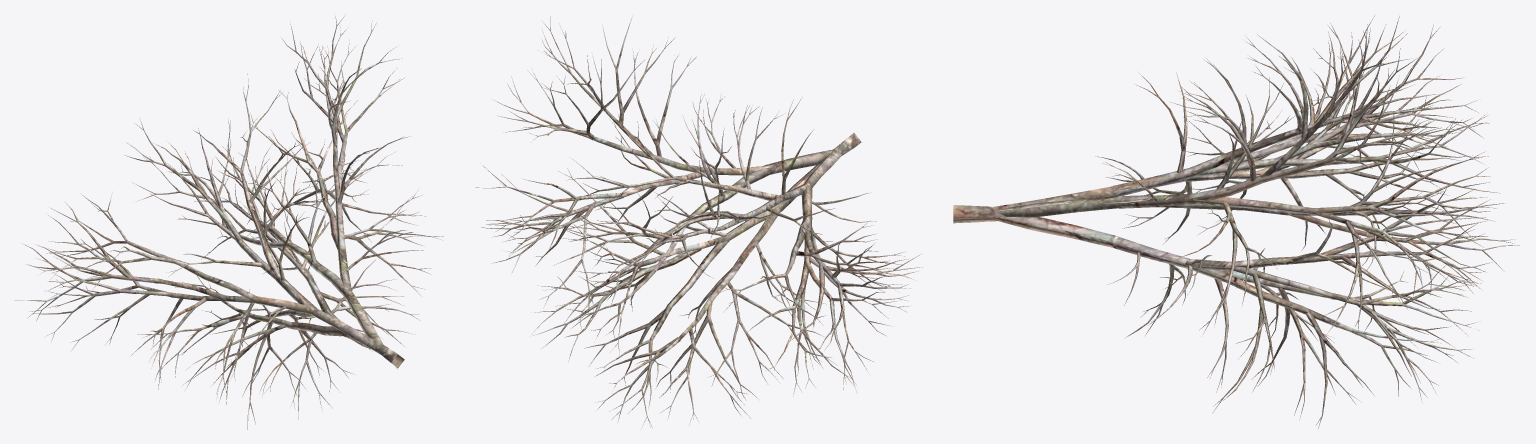
Rendered from tree2_lod1.dae.
3 renders of one model, left to right at view 1: azimuth 30°, elevation 25°; view 2: azimuth 150°, elevation 25°; view 3: azimuth 270°, elevation 25°, orthographic. The views are drawn at different scales.
Parts seen in each view (by area): view 1: tree; view 2: tree; view 3: tree.
Boxes of the visible parts, x1,y1,x2,y2 form: tree: [14, 14, 443, 429]; tree: [476, 16, 924, 427]; tree: [953, 14, 1519, 428].
Size of the model in its own units: 15.07 by 15.64 by 13.34.
Materials: 1 (1 with a texture image).
